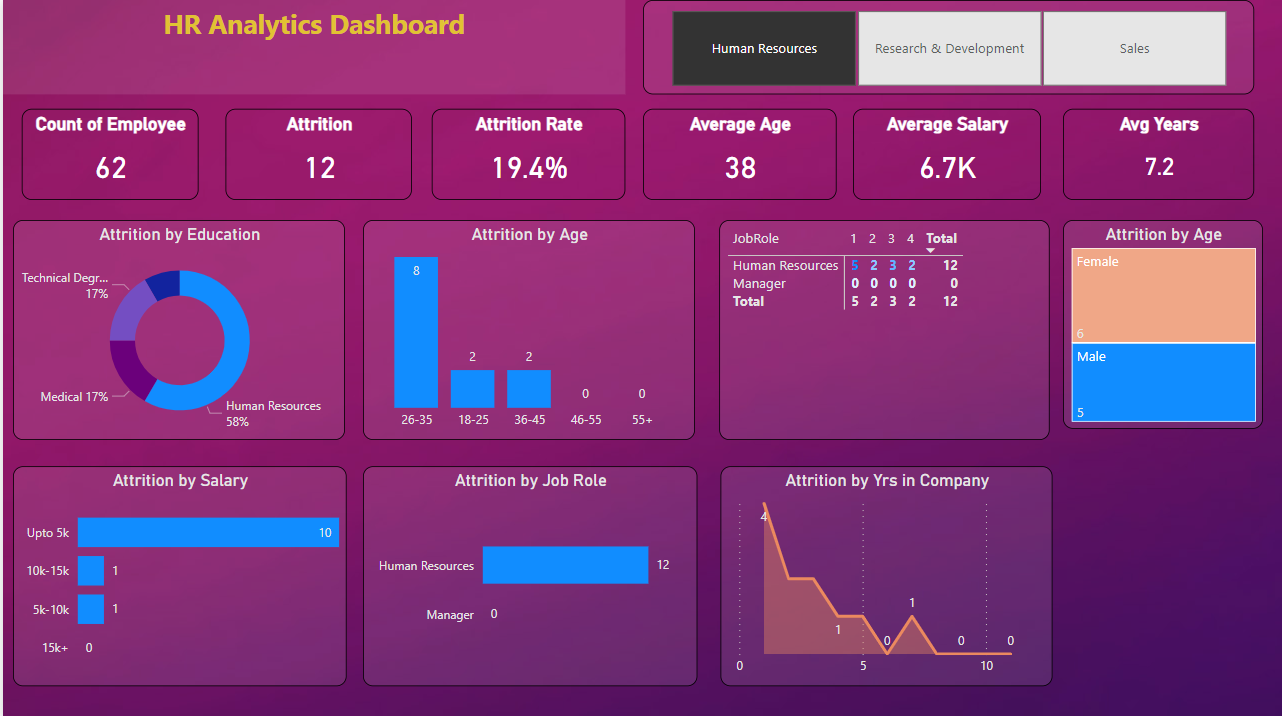

Layout of this report page (visuals, bound fields, positions):
{"tool":"powerbi","page":{"name":"Page 1","canvas":[1280,720],"ordinal":0},"visuals":[{"type":"card","title":"Count of Employee","fields":{"Values":["CountNonNull(HR_Analytics.EmpID)"]},"box":[18.9,108.9,176.7,91.1],"z":0},{"type":"card","title":"Attrition","fields":{"Values":["Sum(HR_Analytics.AttritionCount)"]},"box":[222.2,108.9,186.7,91.1],"z":1000},{"type":"card","title":"Attrition Rate","fields":{"Values":["HR_Analytics.AttritionRate"]},"box":[428.9,108.9,193.3,91.1],"z":2000},{"type":"card","title":"Average Age","fields":{"Values":["Avg(HR_Analytics.Age)"]},"box":[640,108.9,193.3,91.1],"z":3000},{"type":"card","title":"Avg Years","fields":{"Values":["Avg(HR_Analytics.YearsAtCompany)"]},"box":[1060,108.9,191.1,91.1],"z":4000},{"type":"card","title":"Average Salary","fields":{"Values":["Avg(HR_Analytics.MonthlyIncome)"]},"box":[850,108.9,187.8,91.1],"z":5000},{"type":"donutChart","title":"Attrition by Education","fields":{"Category":["HR_Analytics.EducationField"],"Y":["Sum(HR_Analytics.AttritionCount)"]},"box":[10,220,332,220],"z":6000},{"type":"columnChart","title":"Attrition by Age","fields":{"Category":["HR_Analytics.AgeGroup"],"Y":["Sum(HR_Analytics.AttritionCount)"]},"box":[360,220,332,220],"z":7000},{"type":"pivotTable","fields":{"Rows":["HR_Analytics.JobRole"],"Columns":["HR_Analytics.JobSatisfaction"],"Values":["Sum(HR_Analytics.AttritionCount)"]},"box":[716.7,220,330,220],"z":8000},{"type":"barChart","title":"Attrition by Salary","fields":{"Category":["HR_Analytics.SalarySlab"],"Y":["Sum(HR_Analytics.AttritionCount)"]},"box":[10,466.7,333.3,220],"z":9000},{"type":"barChart","title":"Attrition by Job Role","fields":{"Category":["HR_Analytics.JobRole"],"Y":["Sum(HR_Analytics.AttritionCount)"]},"box":[360,466,334,220],"z":10000},{"type":"areaChart","title":"Attrition by Yrs in Company","fields":{"Category":["HR_Analytics.YearsAtCompany"],"Y":["Sum(HR_Analytics.AttritionCount)"]},"box":[718,466,332,220],"z":11000},{"type":"treemap","title":"Attrition by Age","fields":{"Group":["HR_Analytics.Gender"],"Values":["Sum(HR_Analytics.AttritionCount)"]},"box":[1060,220,200,208.9],"z":12000},{"type":"slicer","fields":{"Values":["HR_Analytics.Department"]},"box":[640,0,611.1,94.4],"z":12001},{"type":"textbox","box":[0,0,622.2,94.4],"z":12002}]}

Visuals, with their boxes in screenshot pixels (x1, y1, x2, y2), scaled from the page's 1280x720 canvas onto the 1282x716 screenshot:
"Count of Employee" card: box(19, 108, 196, 199)
"Attrition" card: box(223, 108, 410, 199)
"Attrition Rate" card: box(430, 108, 623, 199)
"Average Age" card: box(641, 108, 835, 199)
"Avg Years" card: box(1062, 108, 1253, 199)
"Average Salary" card: box(851, 108, 1039, 199)
"Attrition by Education" donutChart: box(10, 219, 343, 438)
"Attrition by Age" columnChart: box(361, 219, 693, 438)
pivotTable - HR_Analytics.JobRole x HR_Analytics.JobSatisfaction: box(718, 219, 1048, 438)
"Attrition by Salary" barChart: box(10, 464, 344, 683)
"Attrition by Job Role" barChart: box(361, 463, 695, 682)
"Attrition by Yrs in Company" areaChart: box(719, 463, 1052, 682)
"Attrition by Age" treemap: box(1062, 219, 1262, 427)
slicer - HR_Analytics.Department: box(641, 0, 1253, 94)
textbox: box(0, 0, 623, 94)
